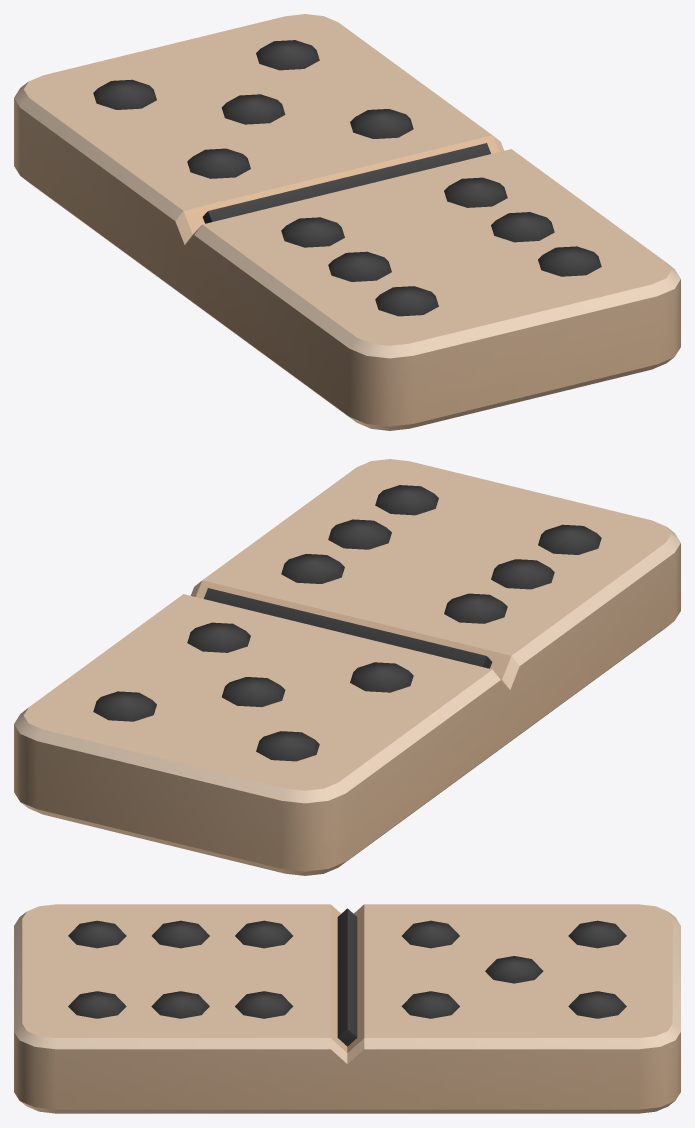
Rendered from domino_tile_5-6.glb.
3 renders of one model, top to bottom at view 1: azimuth 30°, elevation 25°; view 2: azimuth 150°, elevation 25°; view 3: azimuth 270°, elevation 25°, orthographic. The views are drawn at different scales.
Visible parts, largest first — view 1: domino_tile_5-6; view 2: domino_tile_5-6; view 3: domino_tile_5-6.
Boxes of the visible parts, box(x1,y1,x2,y2) form: domino_tile_5-6: box(14, 14, 680, 430); domino_tile_5-6: box(14, 459, 680, 875); domino_tile_5-6: box(14, 904, 680, 1113).
Bounding box in the file's own units: 1 × 0.2767 × 2.
1 material, 1 textured.
